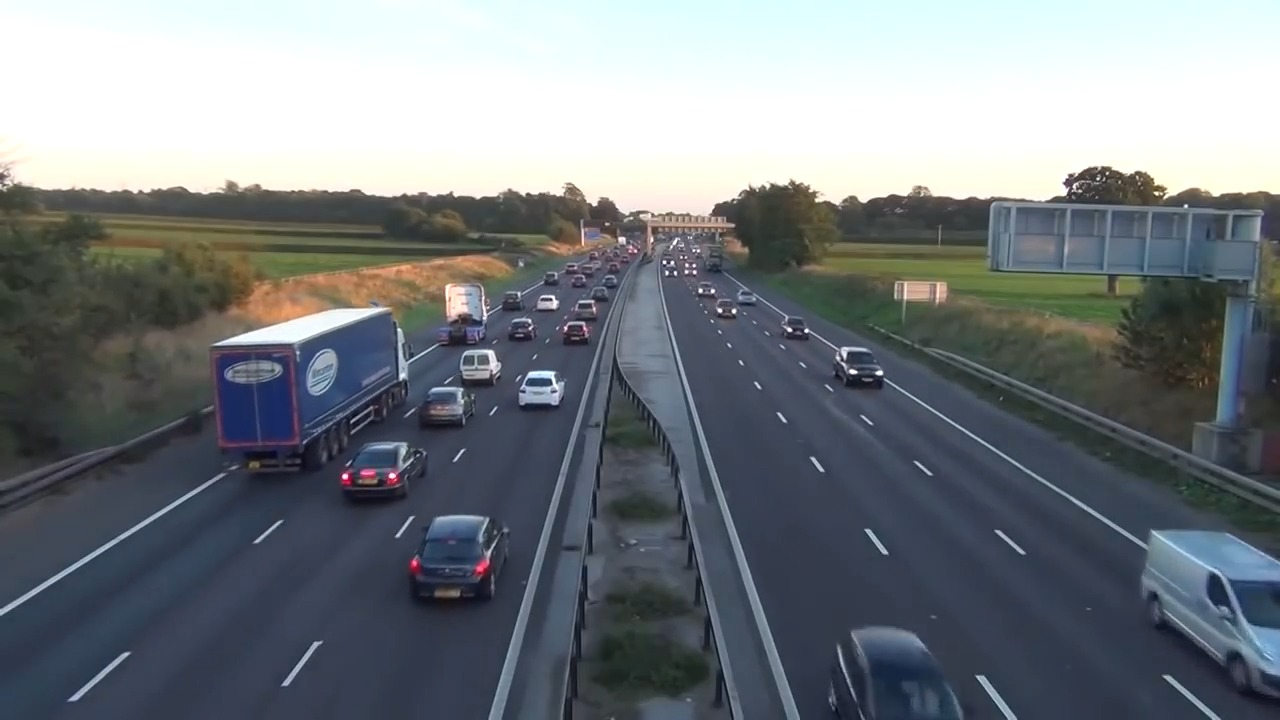truck: (204, 302, 412, 468)
